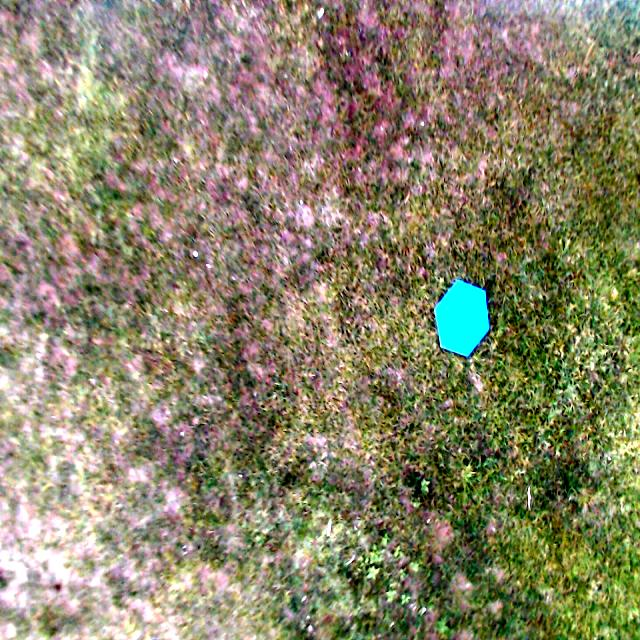blue_hexagon: (434, 279, 492, 358)
